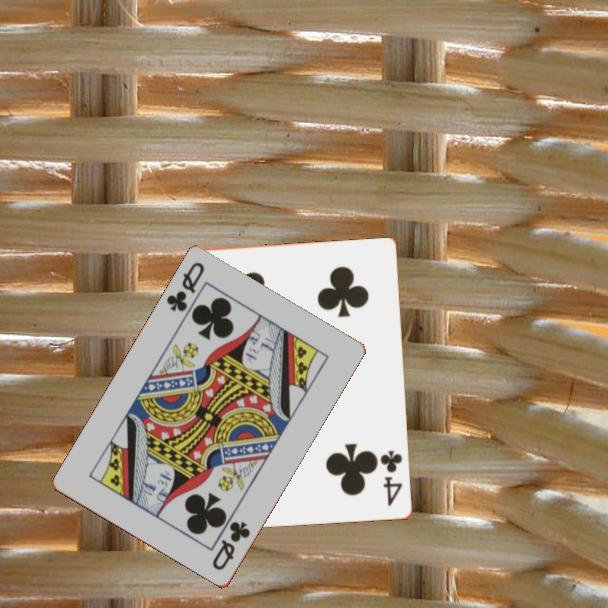c04: (377, 447, 405, 509)
c12: (163, 259, 208, 315), (209, 518, 253, 574)
